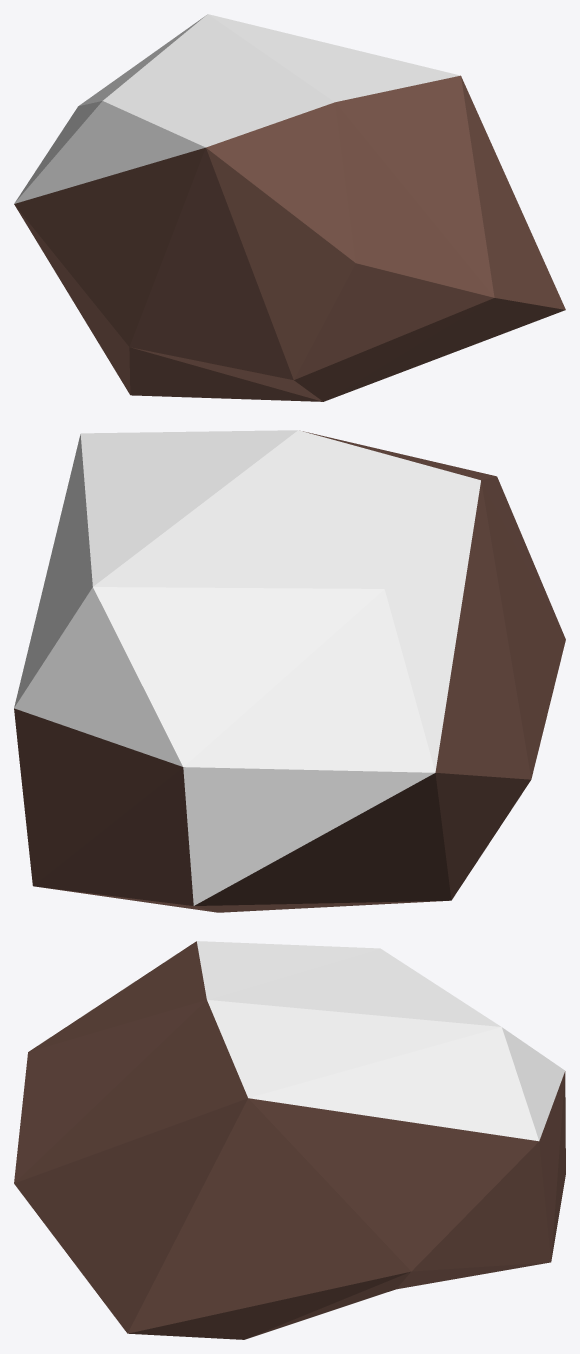
The model's file is snow_stone_006.fbx.
3 renders of one model, top to bottom at view 1: azimuth 30°, elevation 25°; view 2: azimuth 150°, elevation 25°; view 3: azimuth 270°, elevation 25°, orthographic. The views are drawn at different scales.
Visible parts, largest first — view 1: snow_stone_006; view 2: snow_stone_006; view 3: snow_stone_006.
Boxes of the visible parts, left/top/right/bottom form: snow_stone_006: left=14, top=14, right=565, bottom=401; snow_stone_006: left=14, top=430, right=565, bottom=912; snow_stone_006: left=14, top=941, right=565, bottom=1339.
Size of the model in its own units: 79.24 by 89.78 by 54.72.
